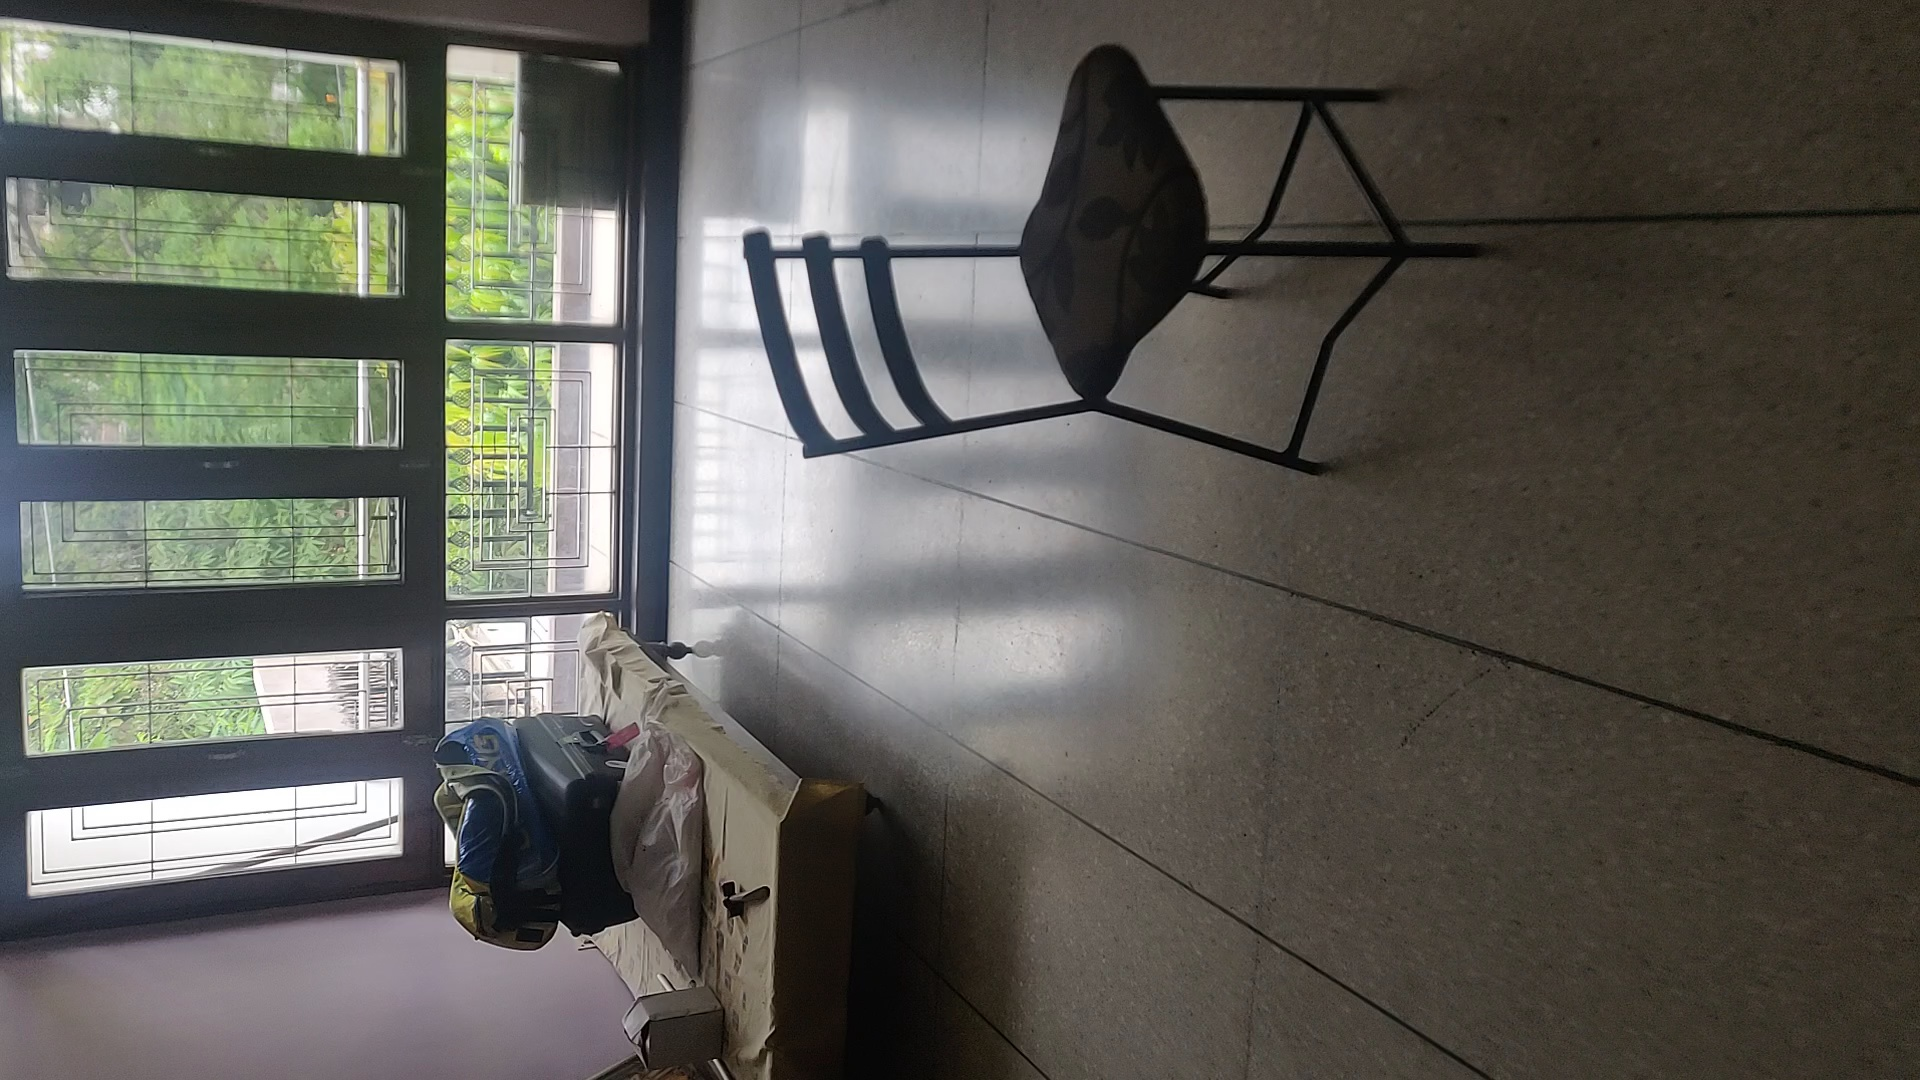hammer: (717, 880, 771, 919)
